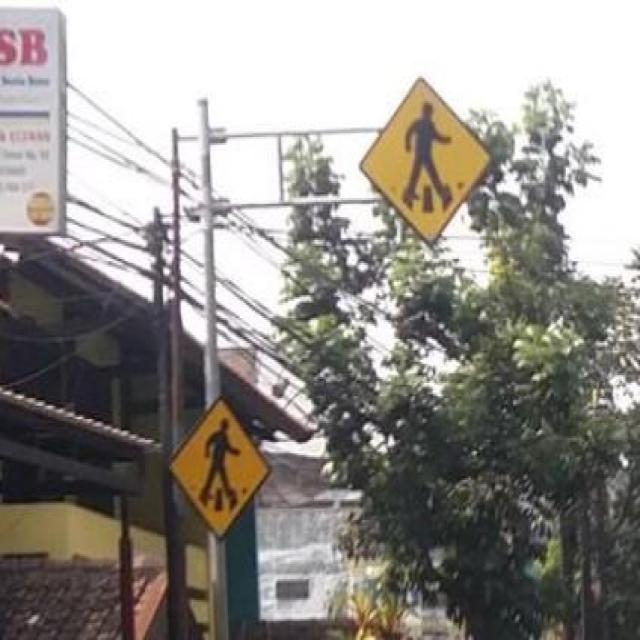traffic sign: (365, 76, 490, 244), (172, 400, 266, 543)
